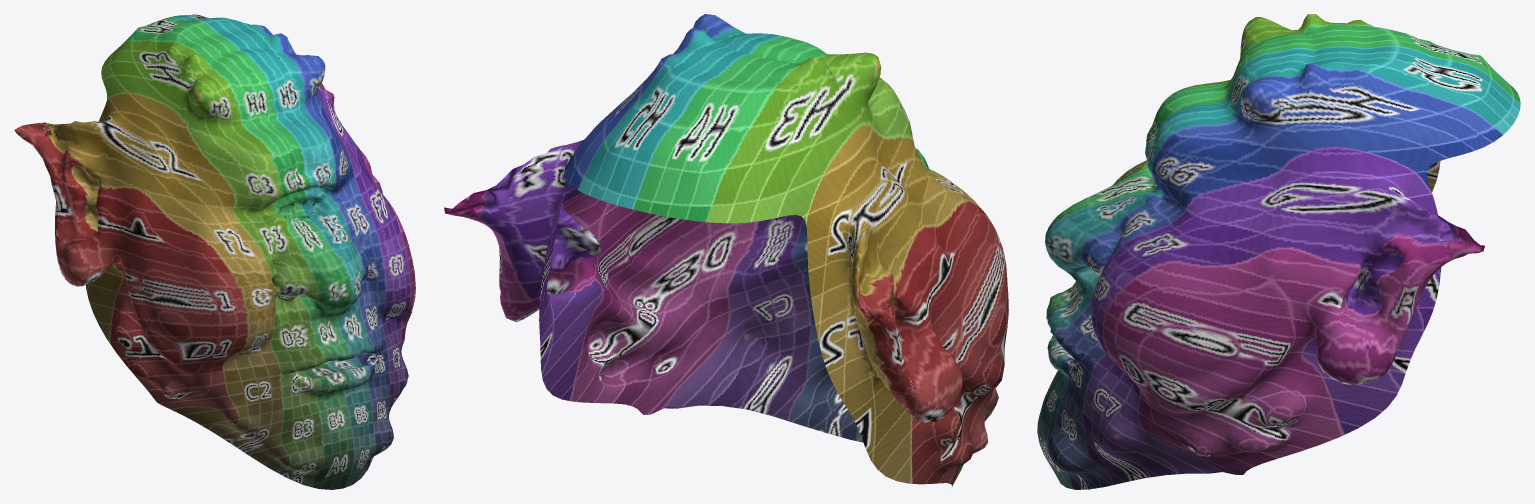
3 views of the same model, side by side, from view 1: azimuth 30°, elevation 25°; view 2: azimuth 150°, elevation 25°; view 3: azimuth 270°, elevation 25° (orthographic). The views are drawn at different scales.
Parts seen in each view (by area): view 1: pMesh1; view 2: pMesh1; view 3: pMesh1.
Boxes of the visible parts, left/top/right/bottom form: pMesh1: left=14, top=14, right=415, bottom=489; pMesh1: left=444, top=14, right=1008, bottom=486; pMesh1: left=1037, top=14, right=1520, bottom=489.
Bounding box in the file's own units: 1.06 × 1.19 × 1.18.
Materials: 1 (1 with a texture image).
